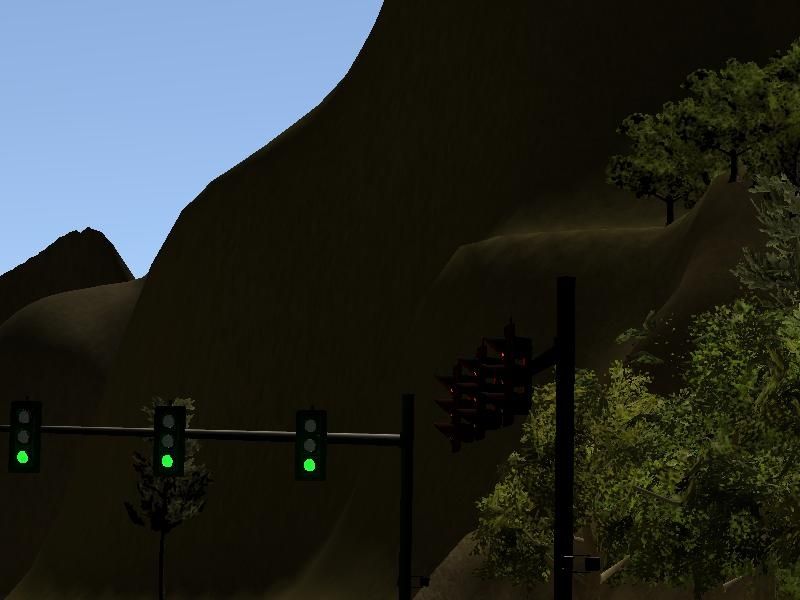GREEN: (7, 399, 39, 471), (151, 404, 183, 476), (293, 406, 325, 478)
